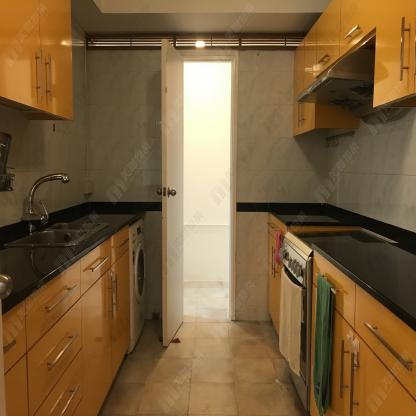Cupboard: (0, 1, 74, 122)
Exhaust Hood: (296, 32, 376, 126)
Faucet: (22, 169, 73, 226)
Sink: (0, 214, 136, 265)
Washing Machine: (129, 215, 146, 353)
